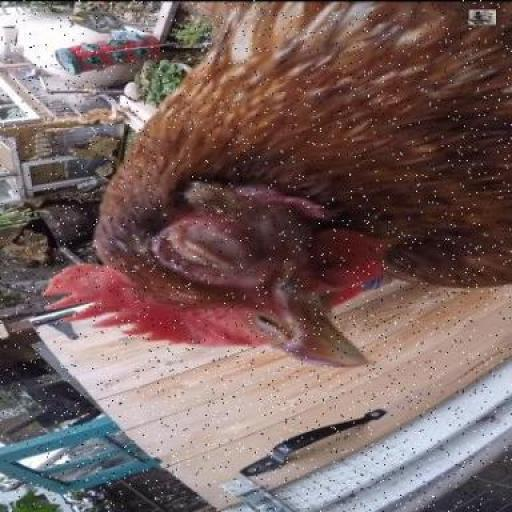disease: (128, 192, 281, 294)
